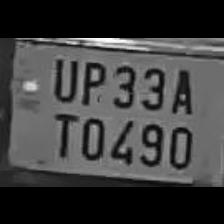0: (76, 108, 104, 160), (164, 120, 194, 166)
3: (106, 57, 136, 106), (136, 60, 166, 108)
4: (106, 110, 134, 162)
9: (136, 117, 162, 165)
A: (166, 60, 194, 116)
P: (76, 54, 106, 104)
T: (46, 106, 76, 156)
U: (46, 51, 78, 102)
